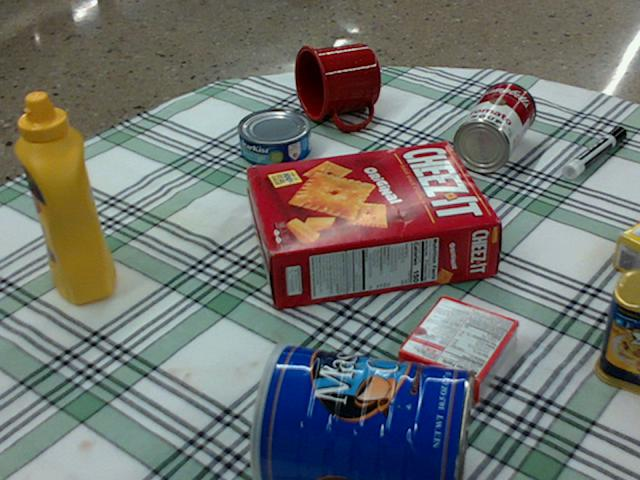cracker_box: (247, 143, 498, 309)
gelatin_box: (398, 295, 519, 399)
large_marker: (561, 127, 625, 177)
master_chef_can: (251, 345, 474, 479)
mug: (292, 44, 380, 128)
mustard_bottle: (14, 92, 115, 304)
potted_meat_can: (594, 266, 639, 392)
sugar_box: (615, 225, 639, 281)
tomato_soup_can: (452, 81, 535, 171)
tuna_fish_can: (236, 108, 310, 166)
